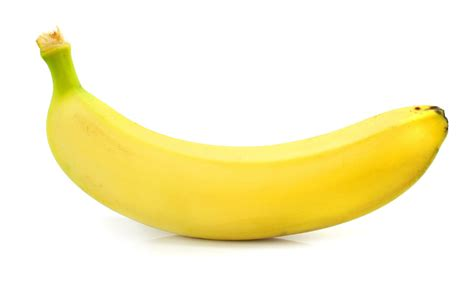banana: (37, 87, 452, 242)
